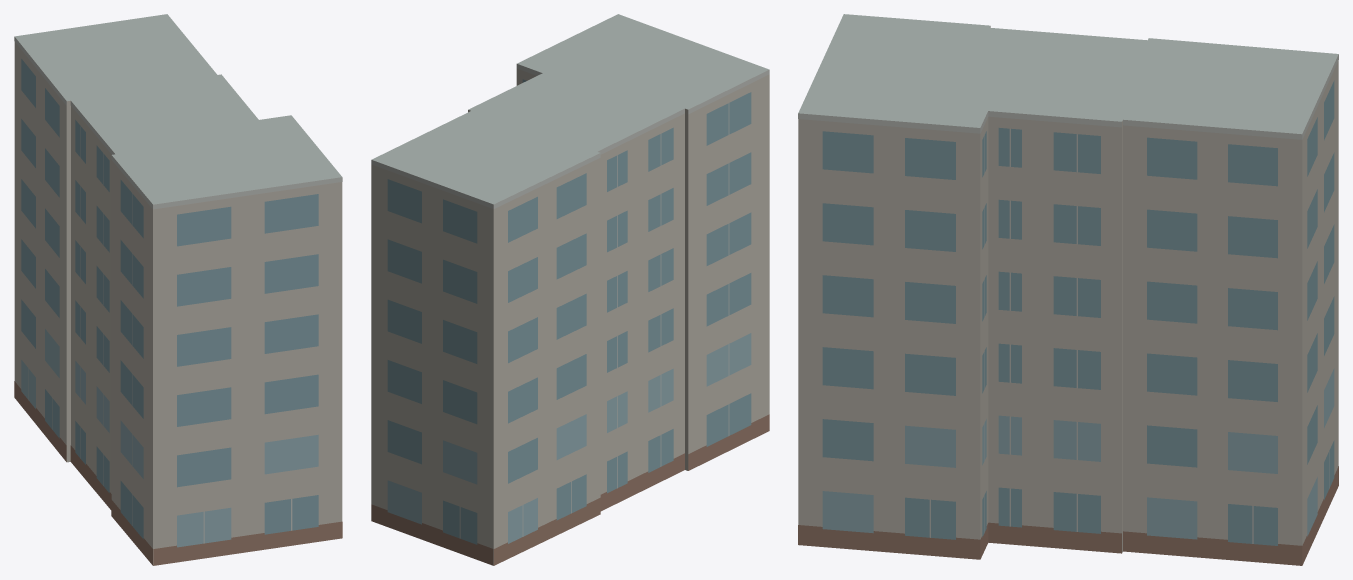
The model's file is survey-upis-33042141.glb.
3 renders of one model, left to right at view 1: azimuth 30°, elevation 25°; view 2: azimuth 150°, elevation 25°; view 3: azimuth 270°, elevation 25°, orthographic. The views are drawn at different scales.
Visible parts, largest first — view 1: survey-upis-33042141.tmp; view 2: survey-upis-33042141.tmp; view 3: survey-upis-33042141.tmp.
Boxes of the visible parts, x1=… form: survey-upis-33042141.tmp: x1=14, y1=14, x2=342, y2=565; survey-upis-33042141.tmp: x1=371, y1=14, x2=769, y2=565; survey-upis-33042141.tmp: x1=798, y1=14, x2=1338, y2=565.
Bounding box in the file's own units: 11.12 × 18.6 × 21.12.
